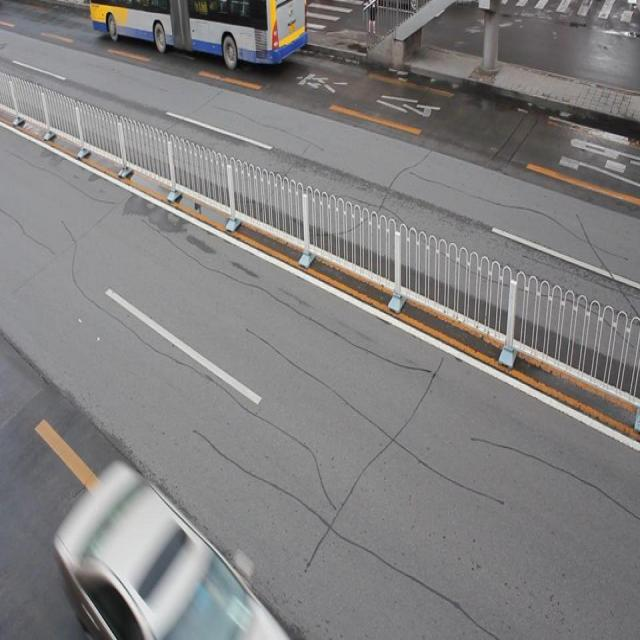car: (54, 460, 286, 640)
van: (90, 1, 306, 69)
